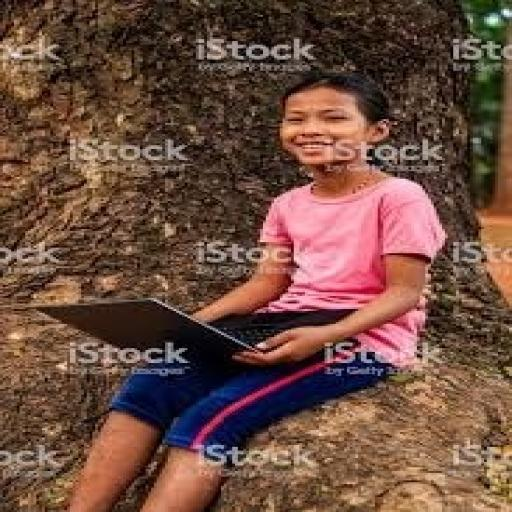using_laptop: (40, 252, 373, 425)
